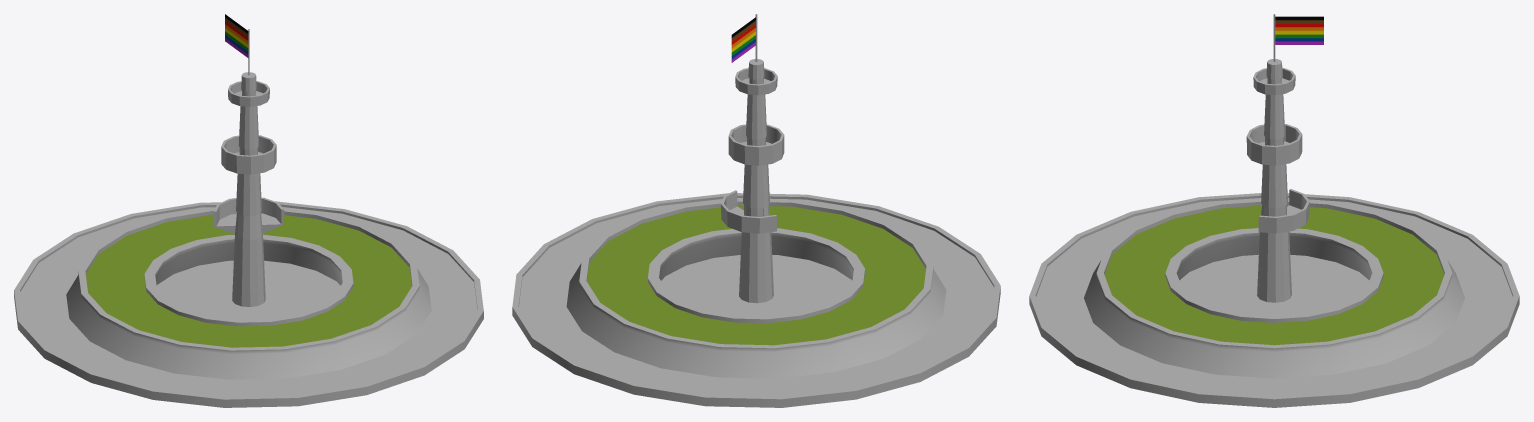
File: Battleship.fbx
3 renders of one model, left to right at view 1: azimuth 30°, elevation 25°; view 2: azimuth 150°, elevation 25°; view 3: azimuth 270°, elevation 25°, orthographic. The views are drawn at different scales.
Parts seen in each view (by area): view 1: battleshipGarden, battleshipPole, flag1; view 2: battleshipGarden, battleshipPole, flag1; view 3: battleshipGarden, battleshipPole, flag1.
Part boxes in pixels (x1,y1,x2,y2): battleshipGarden: (14,201,483,407); battleshipPole: (213,72,284,306); flag1: (225,14,248,57); battleshipGarden: (512,193,1000,407); battleshipPole: (721,59,784,303); flag1: (731,17,755,62); battleshipGarden: (1029,193,1519,407); battleshipPole: (1246,59,1309,302); flag1: (1275,16,1323,44).
Size of the model in its own units: 67.87 by 44.32 by 67.87.
